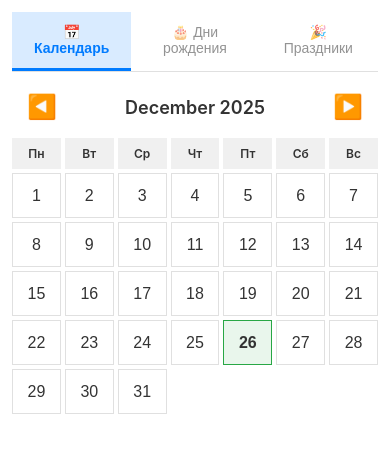
Scenario: Calendar › should clear selected date when navigating to different month
The image size is (390, 475).
Click the button "1": {"x": 36, "y": 196} [12,173,61,218]
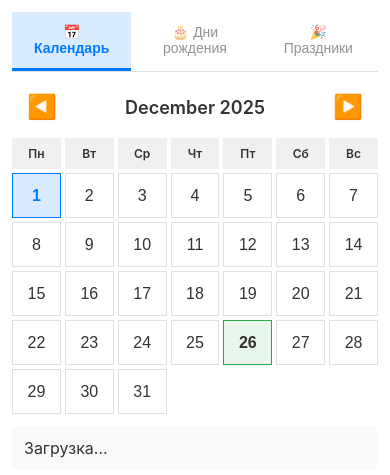
# Навигация на предыдущий месяц должна очистить выбранную дату
Click the button "◀️": {"x": 42, "y": 107} [12,88,72,126]
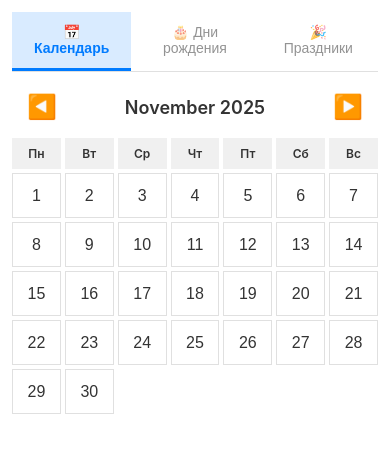
expect the text with test id "date-view" is gone: met
